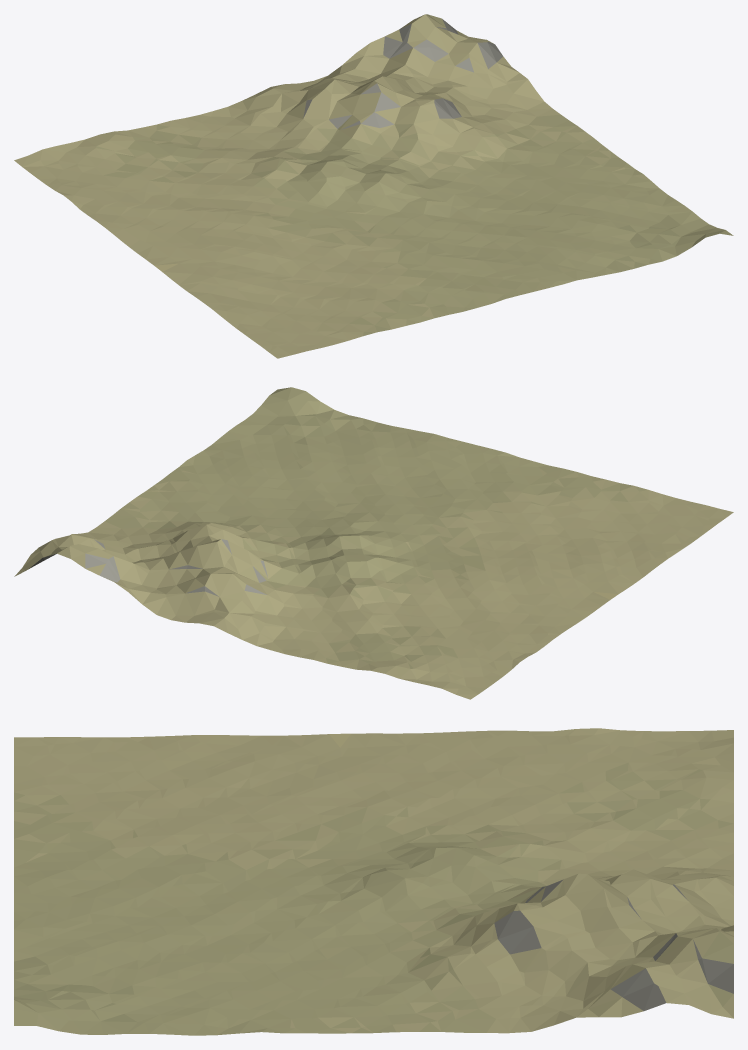
Rendered from Ground_-5_-7.glb.
3 views of the same model, one above another, from view 1: azimuth 30°, elevation 25°; view 2: azimuth 150°, elevation 25°; view 3: azimuth 270°, elevation 25° (orthographic). The views are drawn at different scales.
Parts seen in each view (by area): view 1: Ground_-5_-7; view 2: Ground_-5_-7; view 3: Ground_-5_-7.
Boxes of the visible parts, left/top/right/bottom form: Ground_-5_-7: left=14, top=14, right=733, bottom=358; Ground_-5_-7: left=14, top=387, right=733, bottom=699; Ground_-5_-7: left=14, top=728, right=733, bottom=1035.
Size of the model in its own units: 768 by 90.35 by 768.
